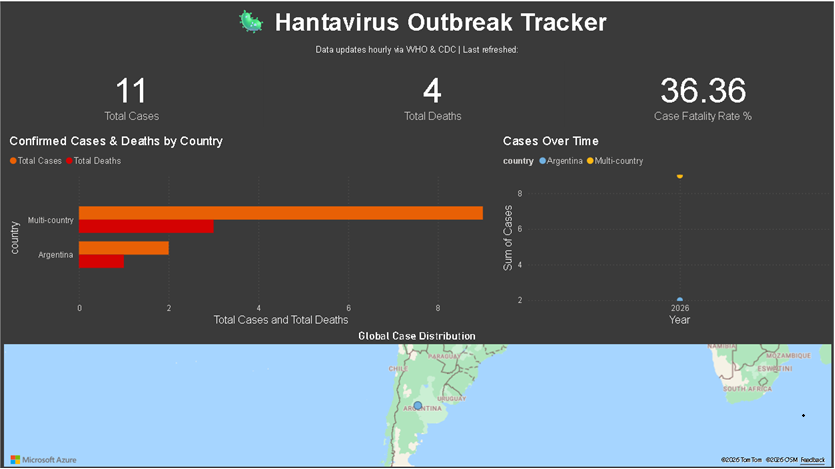

What the dashboard file says about the page in this screenshot:
{"tool":"powerbi","page":{"name":"Page 1","canvas":[1280,720],"ordinal":0},"visuals":[{"type":"card","fields":{"Values":["Sum(hantavirus_master.confirmed_cases)"]},"box":[10,0,280,280],"z":0},{"type":"card","fields":{"Values":["Sum(hantavirus_master.confirmed_deaths)"]},"box":[290,0,280,280],"z":1000},{"type":"card","fields":{"Values":["hantavirus_master.CFR"]},"box":[570,0,280,280],"z":2000},{"type":"clusteredBarChart","title":"Confirmed Cases & Deaths by Country","fields":{"Category":["hantavirus_master.country"],"Y":["Sum(hantavirus_master.Confirmed Cases)","Sum(hantavirus_master.Confirmed Deaths)"]},"box":[9.7,280,523.2,430.3],"z":3000},{"type":"azureMap","title":"Global Case Distribution","fields":{"Category":["hantavirus_master.country"],"Size":["Sum(hantavirus_master.Cases)"]},"box":[569.7,280,554.6,430.3],"z":3001},{"type":"lineChart","title":"Cases Over Time","fields":{"Category":["hantavirus_master.published_date.Variation.Date Hierarchy.Year","hantavirus_master.published_date.Variation.Date Hierarchy.Quarter","hantavirus_master.published_date.Variation.Date Hierarchy.Month","hantavirus_master.published_date.Variation.Date Hierarchy.Day"],"Y":["Sum(hantavirus_master.Cases)"],"Series":["hantavirus_master.country"]},"box":[847.6,0,432.4,280],"z":3002}]}

Visuals, with their boxes in screenshot pixels (x1, y1, x2, y2), scaled from the page's 1280x720 canvas onto the 835x469 screenshot:
card - Sum(hantavirus_master.confirmed_cases): (7,0,189,182)
card - Sum(hantavirus_master.confirmed_deaths): (189,0,372,182)
card - hantavirus_master.CFR: (372,0,554,182)
"Confirmed Cases & Deaths by Country" clusteredBarChart: (6,182,348,463)
"Global Case Distribution" azureMap: (372,182,733,463)
"Cases Over Time" lineChart: (553,0,834,182)
